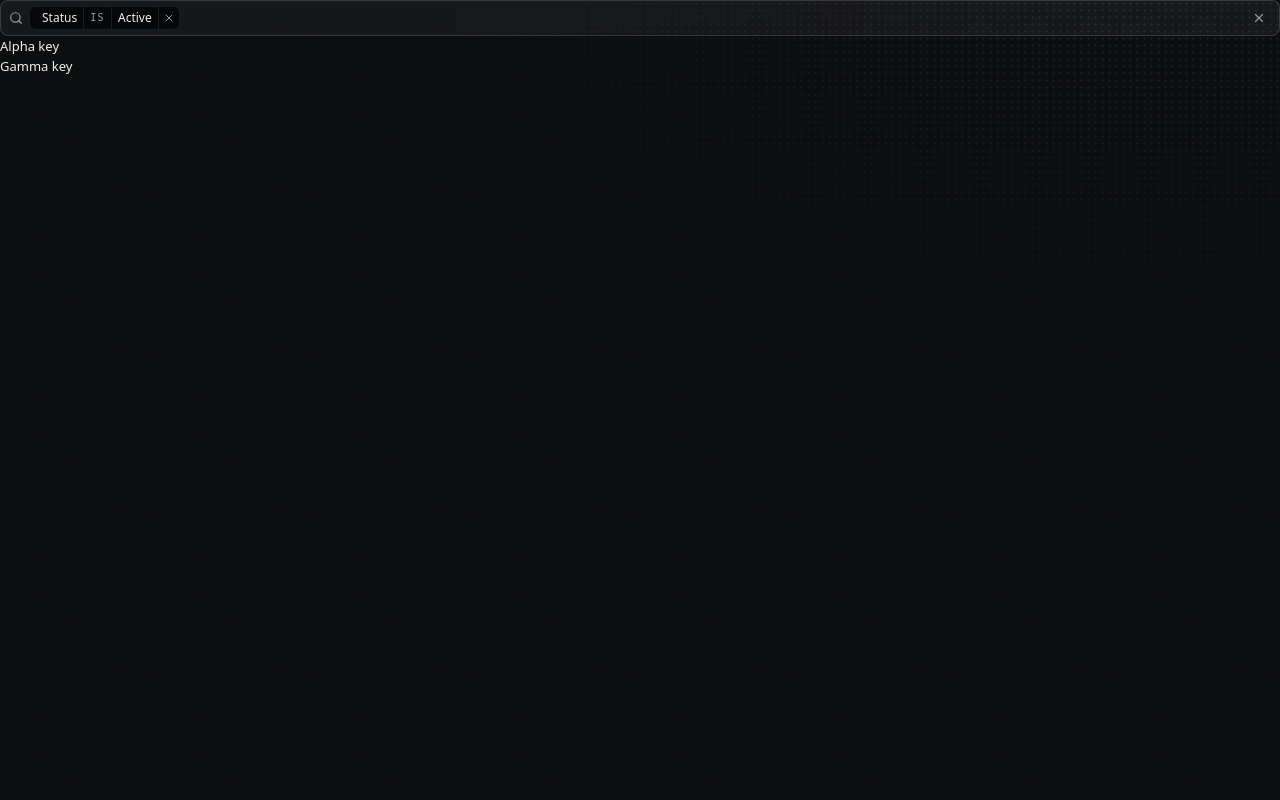
FilterBar › cancels the selections made in a value list with Escape and returns to the facets
The width and height of the screenshot is (1280, 800).
Click the button with aria-label "Edit Status filter" at [134, 18], box [111,7,158,29]
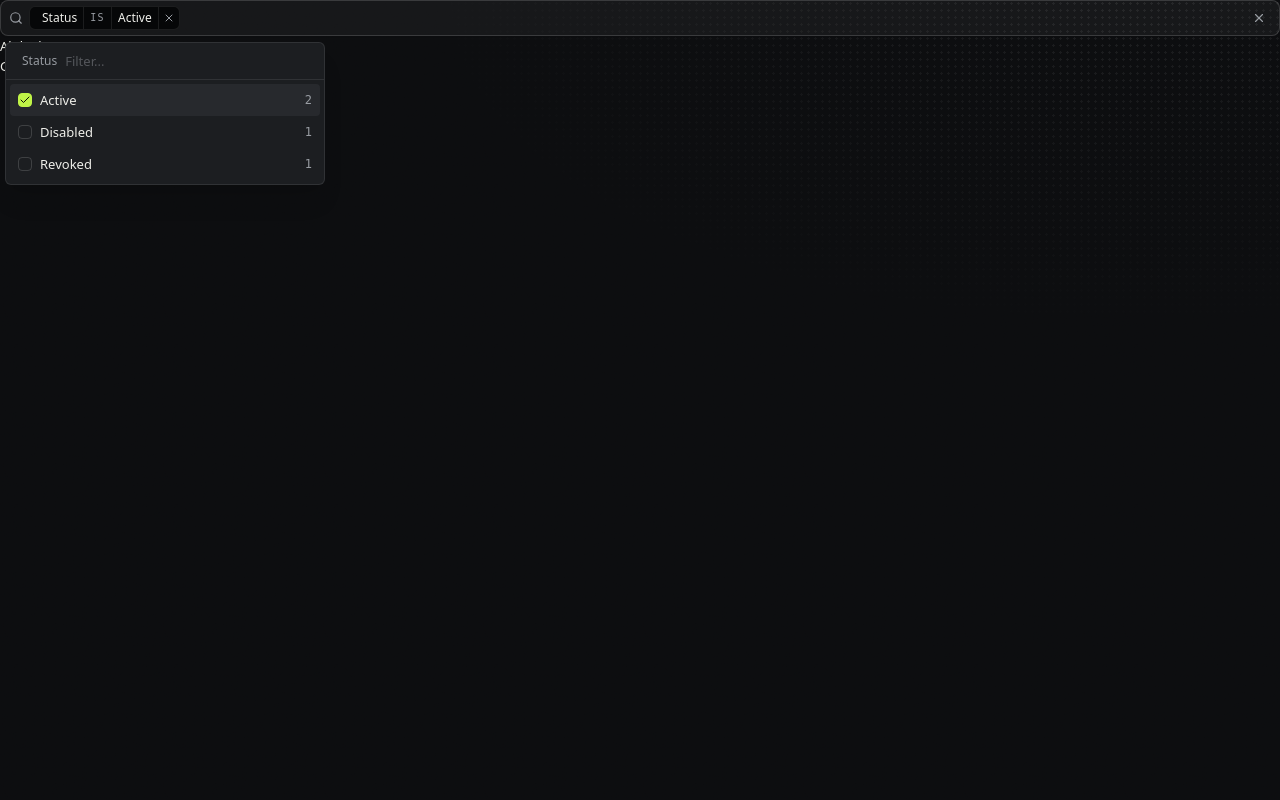
Click the option "Revoked 1" at [66, 164], box [18,155,312,173]
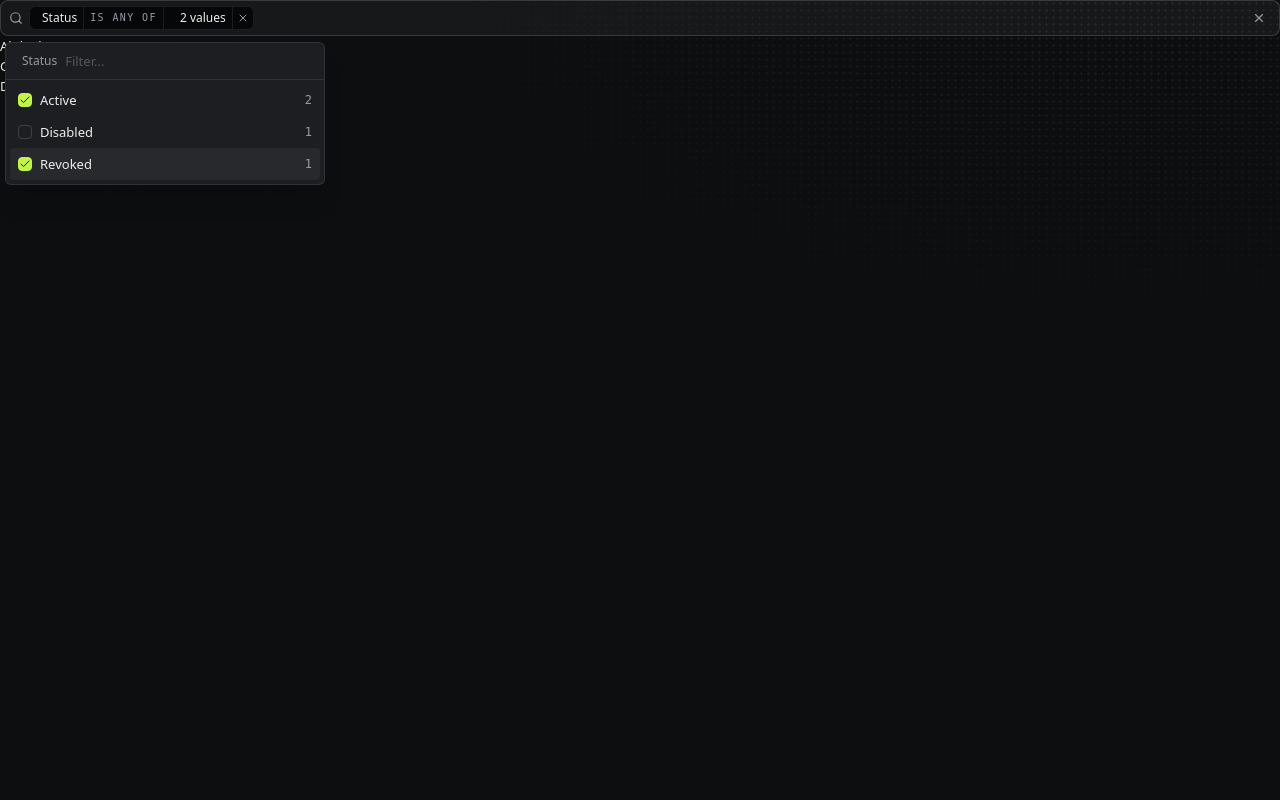
Click the option "Active 2" at [58, 100], box [18,91,312,109]
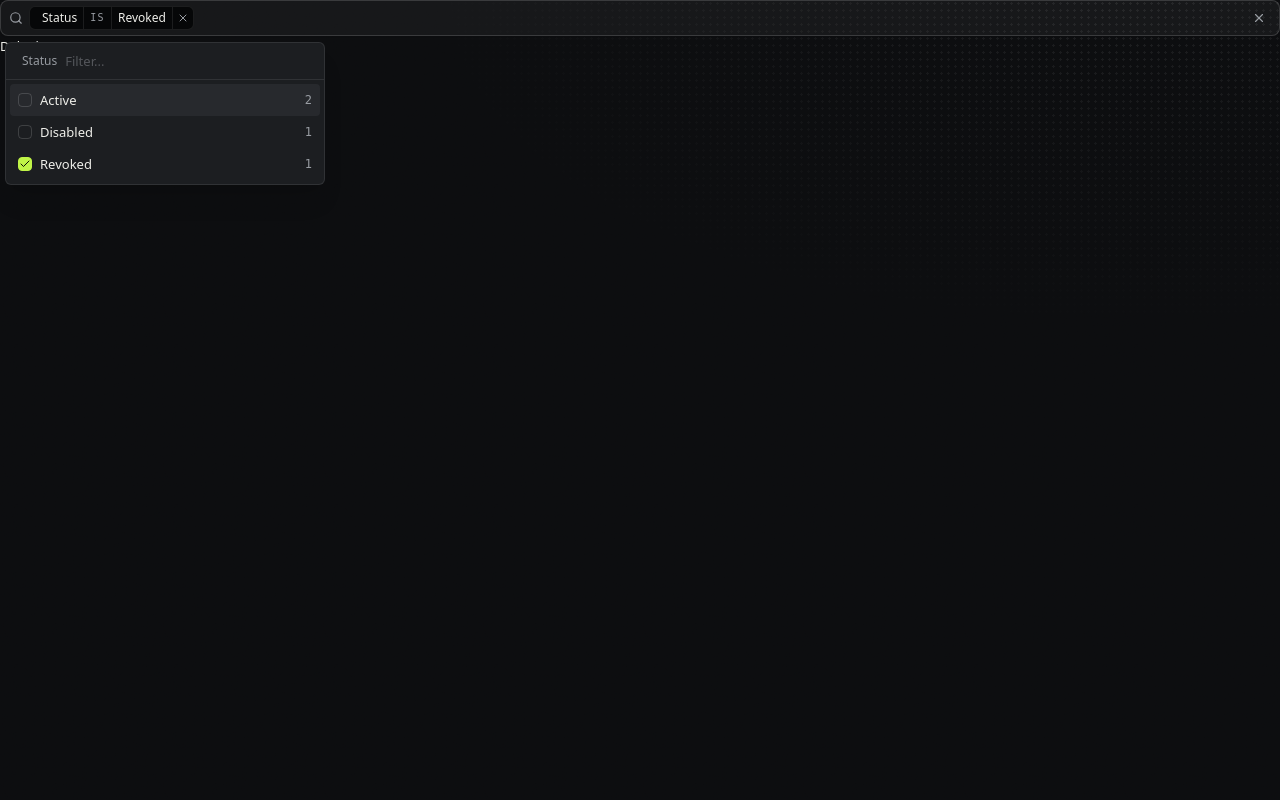
Press Escape
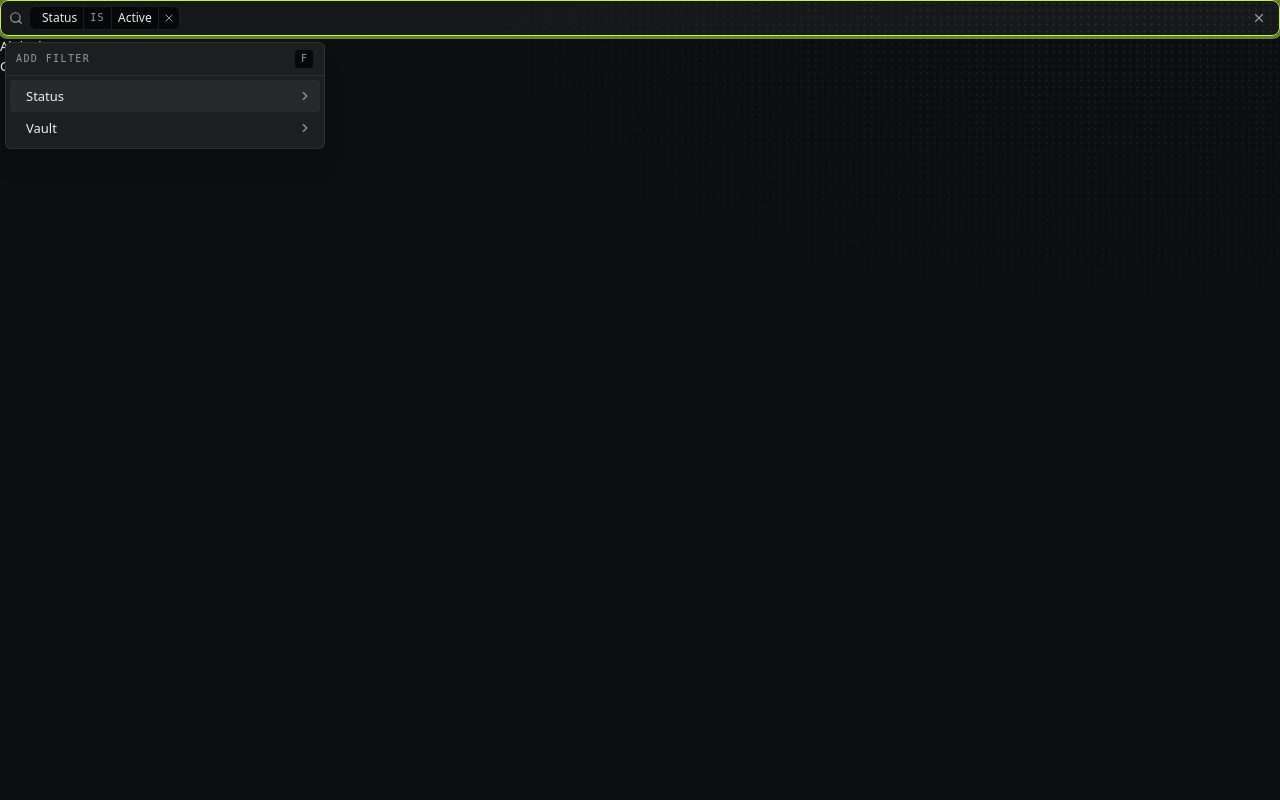
Now the list named "Filter suggestions" is shown, box [6,76,324,148]
Now the options read "Status", "Vault", in this order, box [10,80,320,112]; [26,119,312,137]
Press Escape
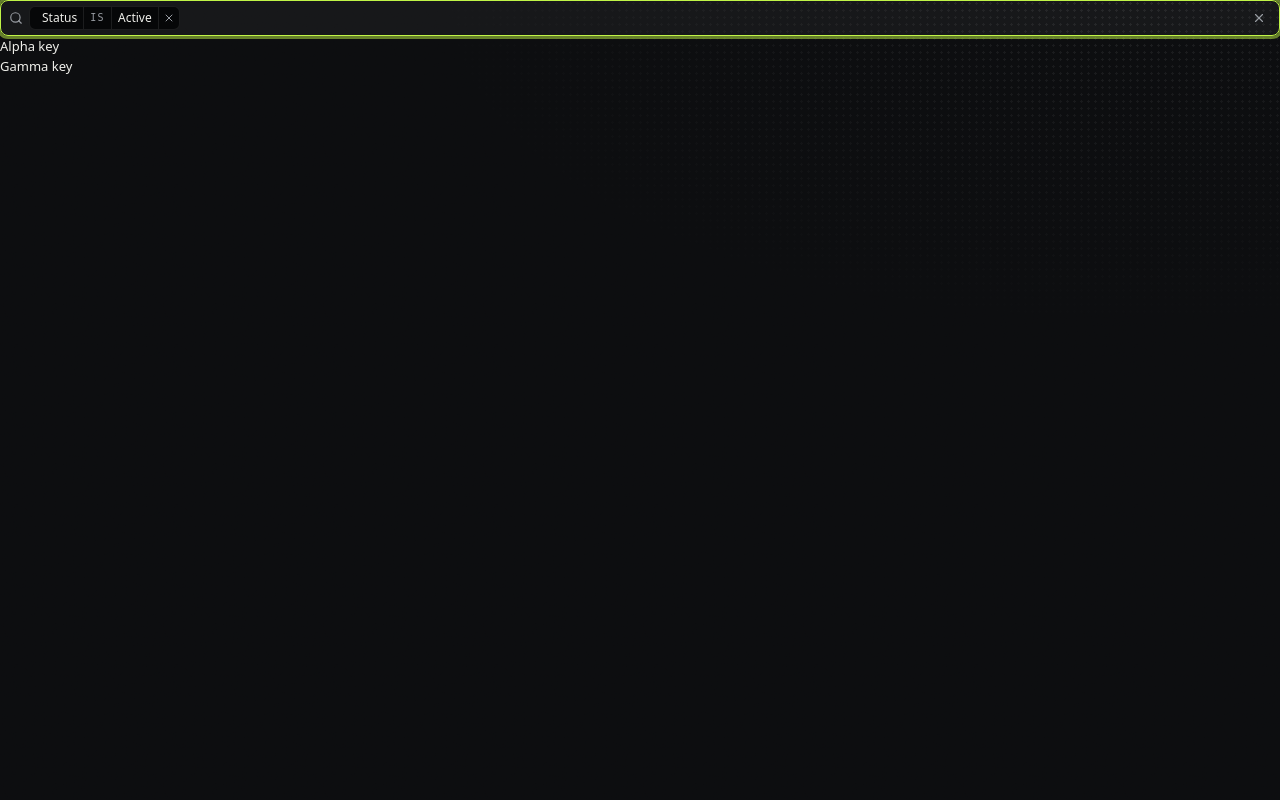
Now the list "Status Vault" is gone
